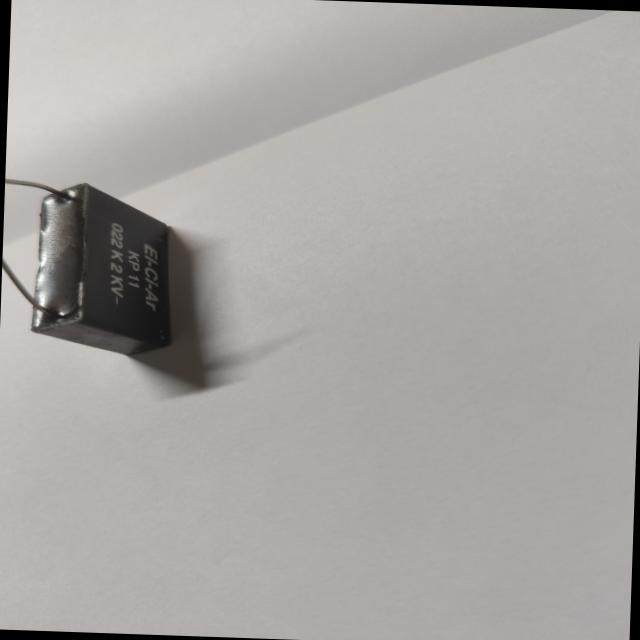capacitor: (0, 165, 196, 369)
